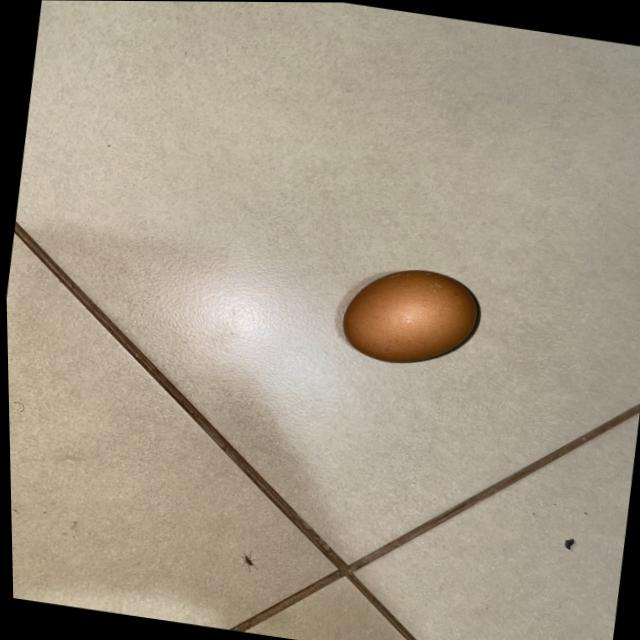egg: (329, 251, 492, 380)
